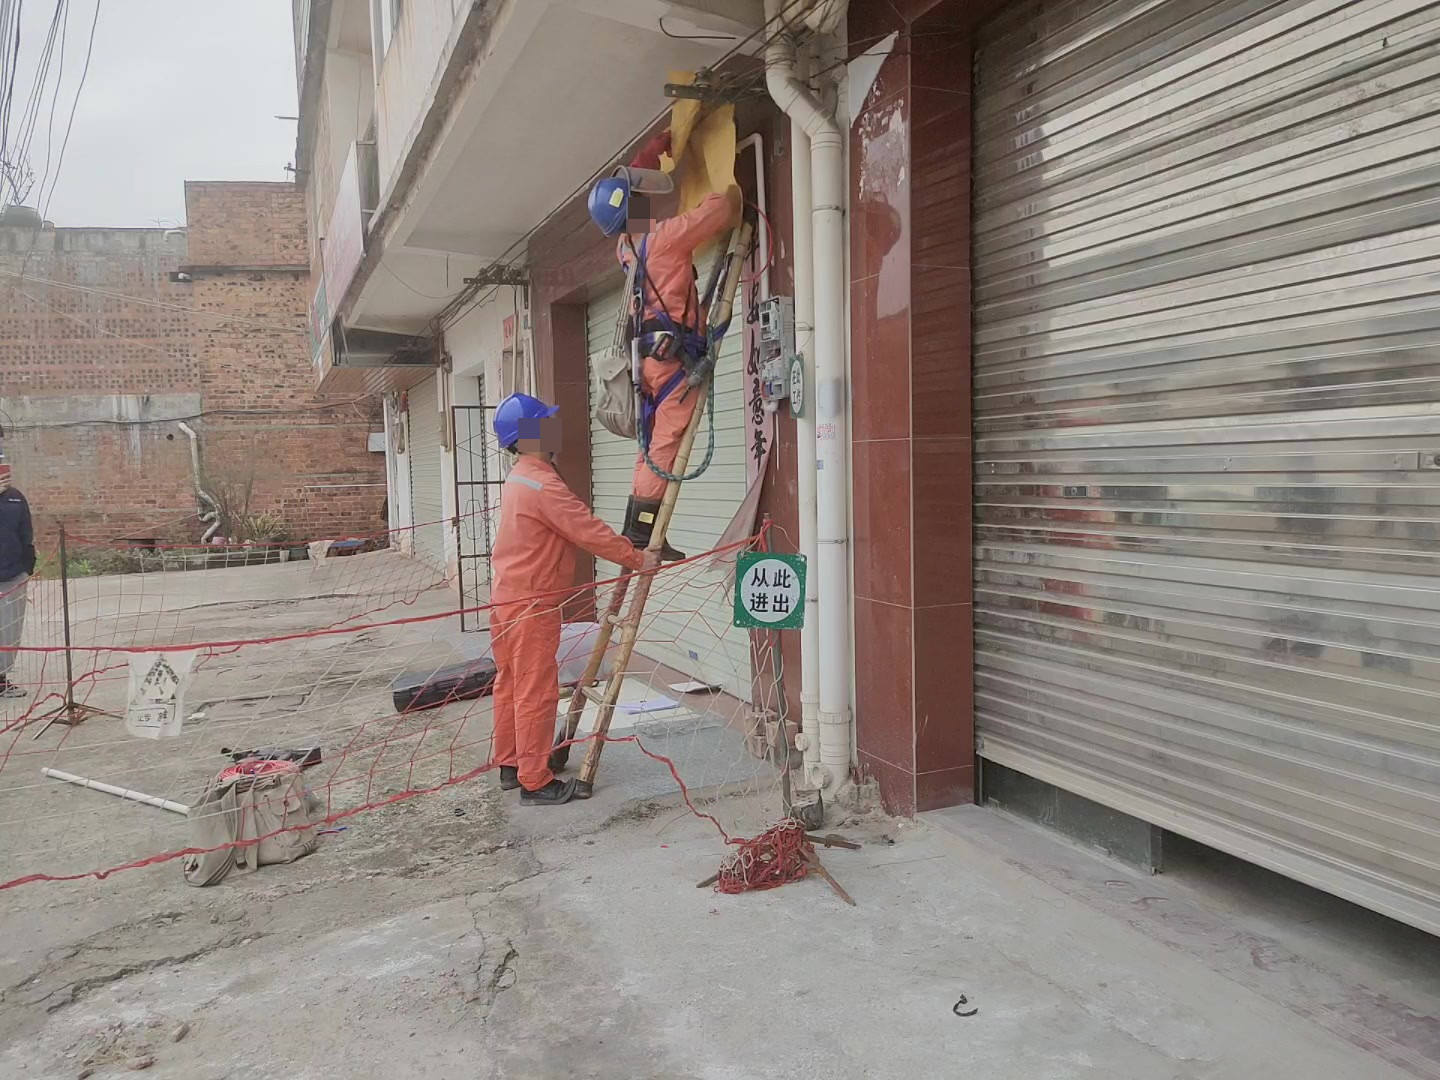halt: (491, 393, 559, 454), (587, 175, 639, 239)
hand: (637, 546, 667, 577)
inear: (519, 418, 556, 450)
intosign: (731, 543, 815, 636)
longglove: (625, 126, 671, 169)
person: (483, 391, 639, 796), (586, 168, 736, 522), (1, 449, 52, 710)
safebelt: (609, 219, 727, 485)
shoe: (616, 496, 693, 557)
support: (480, 385, 659, 809)
worksign: (785, 353, 808, 421)
ydownsuit: (486, 602, 583, 785), (632, 357, 715, 498)
yupsuit: (484, 454, 650, 608), (606, 191, 746, 368)
